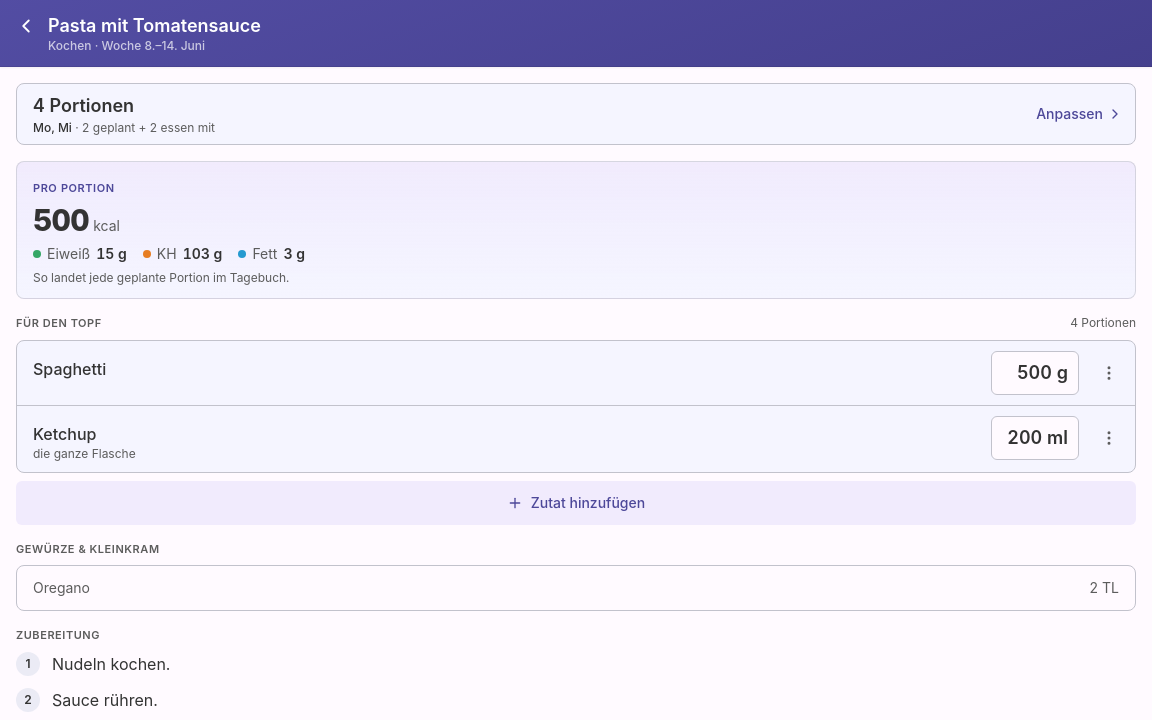
CookingScreen › swaps an ingredient, prefilled with the pot amount when the unit matches
Click the button named "Mehr zu Ketchup" at (1109, 438), box x1=1087 y1=416 x2=1131 y2=460
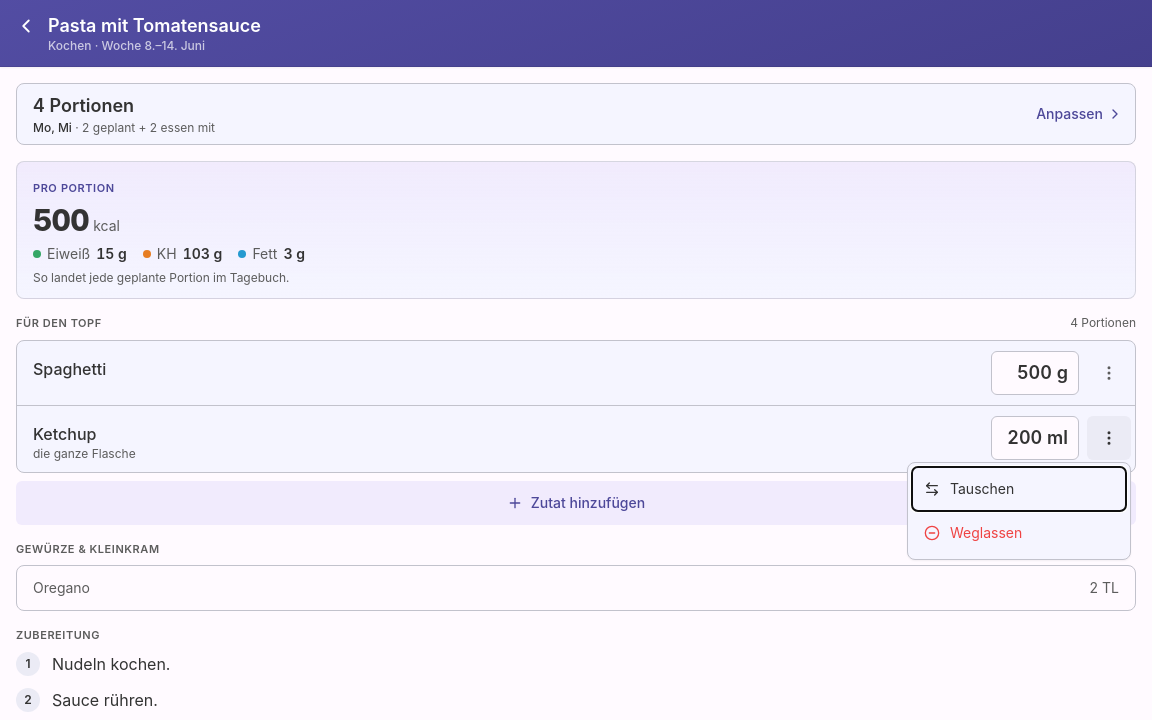
Click the menu item "Tauschen" at (1019, 488), box x1=912 y1=466 x2=1126 y2=510
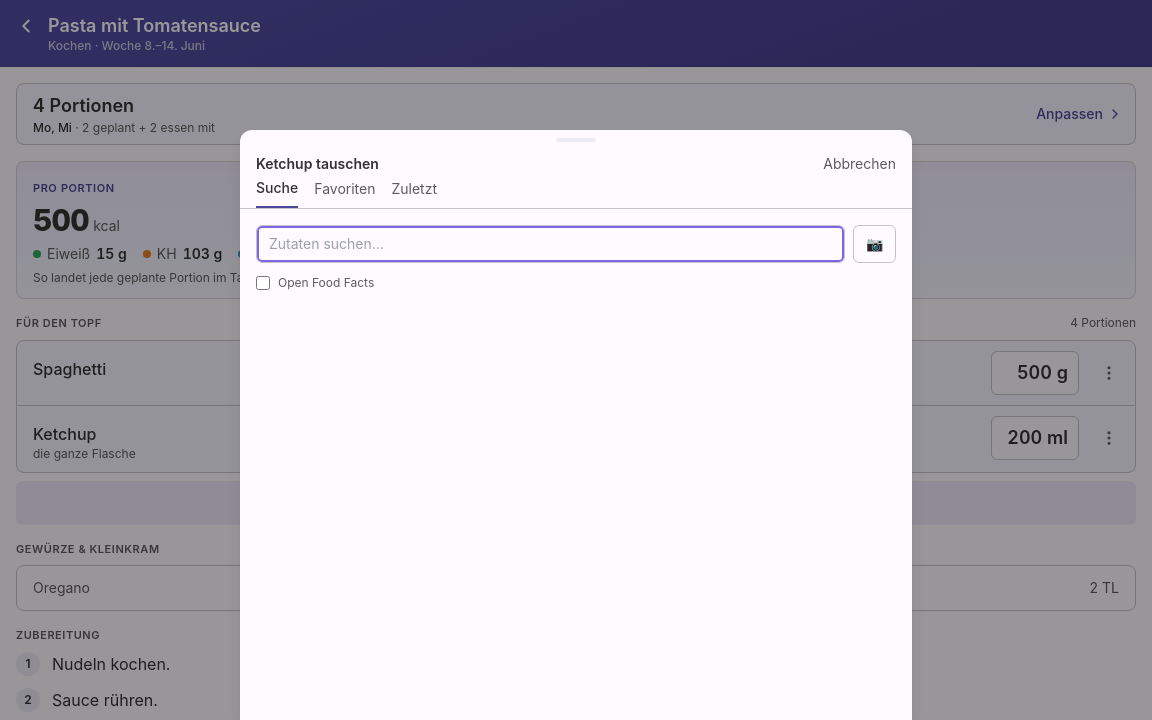
Type "passata" into the search field with placeholder "Zutaten suchen…" at (550, 244), box x1=256 y1=225 x2=845 y2=263
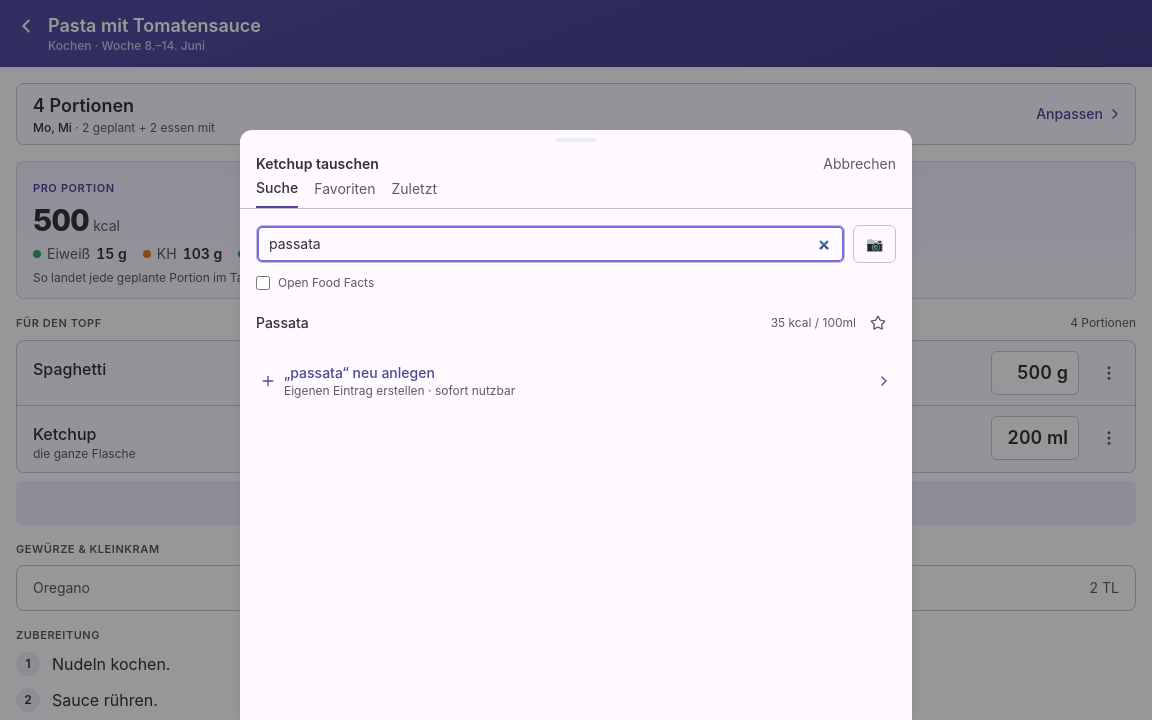
Click the button "Passata 35 kcal / 100ml" at (282, 322), box x1=256 y1=303 x2=856 y2=343
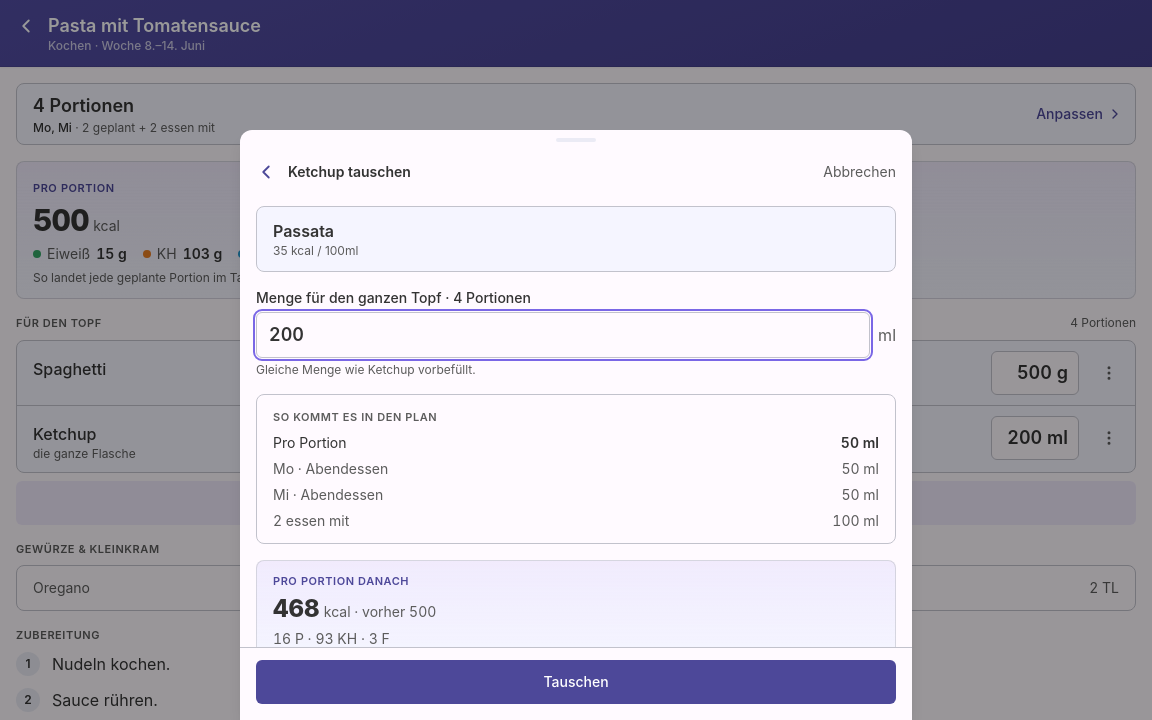
Now the text "35 kcal / 100ml" is shown, box x1=273 y1=243 x2=358 y2=258
Now the text "Gleiche Menge wie Ketchup vorbefüllt." is shown, box x1=256 y1=362 x2=476 y2=377
Now the field labelled "Menge für den ganzen Topf · 4 Portionen" holds "200", box x1=256 y1=312 x2=870 y2=358
Click the button "Tauschen" at (576, 682), box x1=256 y1=660 x2=896 y2=704
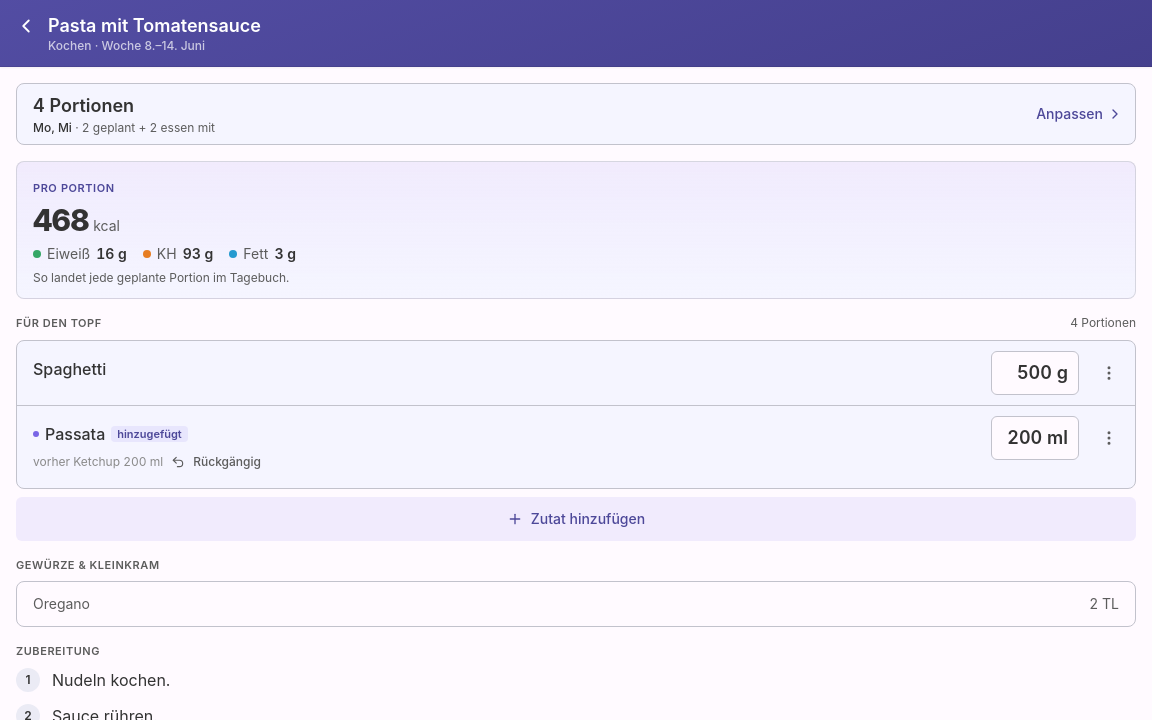
Now the text "vorher Ketchup 200 ml" is shown, box x1=33 y1=454 x2=163 y2=470
